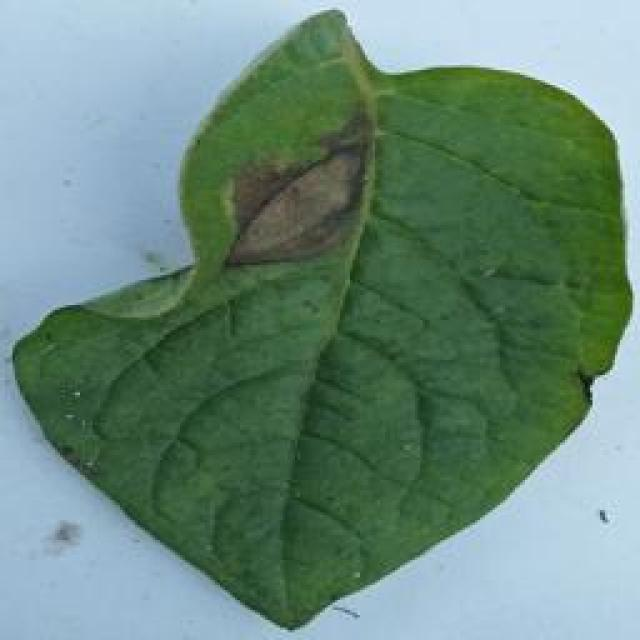Potato_Late_Blight: (17, 10, 623, 628)
